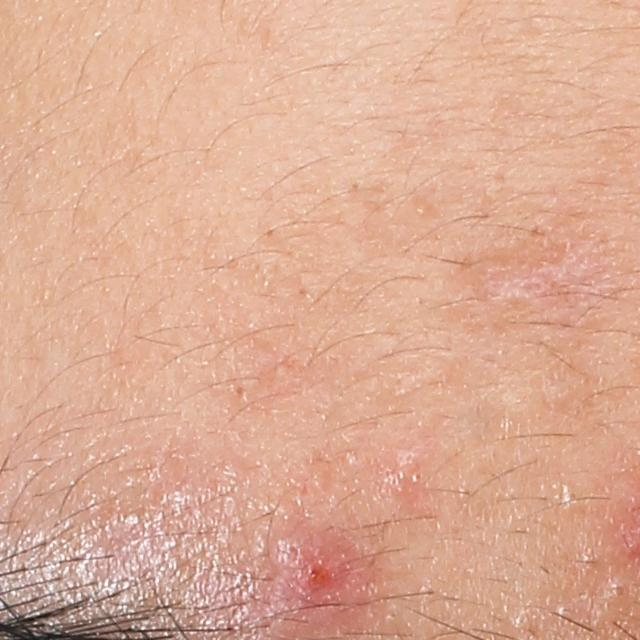comedo: (229, 380, 253, 400), (410, 200, 430, 219)
